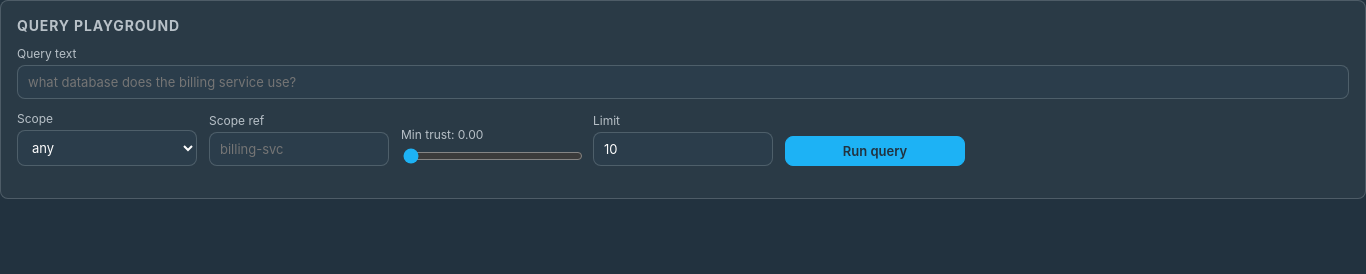
Test: QueryPlayground (Requirement 15.3) › shows an empty state when no trusted memories match
Type "nothing matches" into the field with placeholder "what database does the billing service use?".
click(683, 82); type("nothing matches")  # box 17,65 -> 1349,99
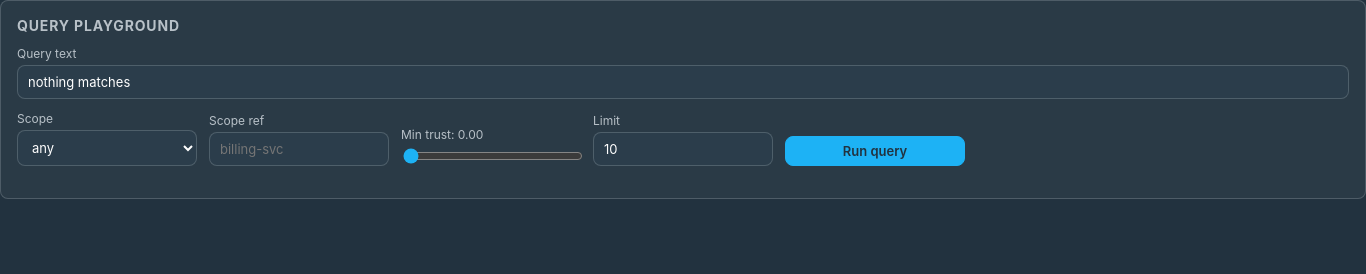
Click the button "Run query".
click(875, 151)  # box 785,136 -> 965,166
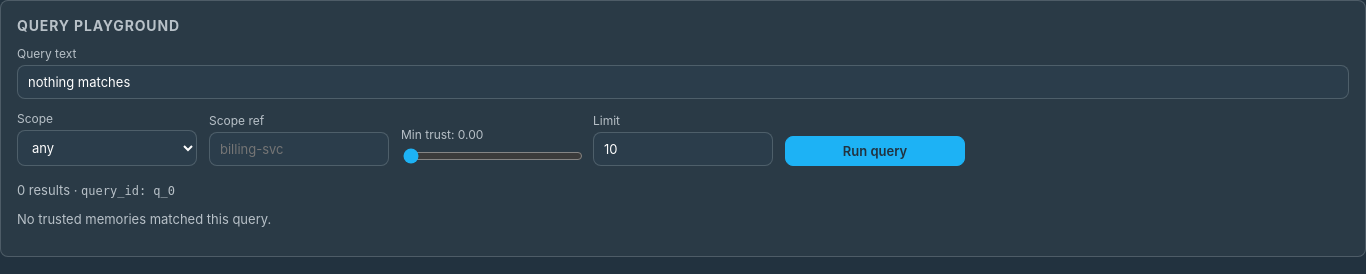
Expected: the text "No trusted memories matched this query." is shown, 17,211 -> 271,227
